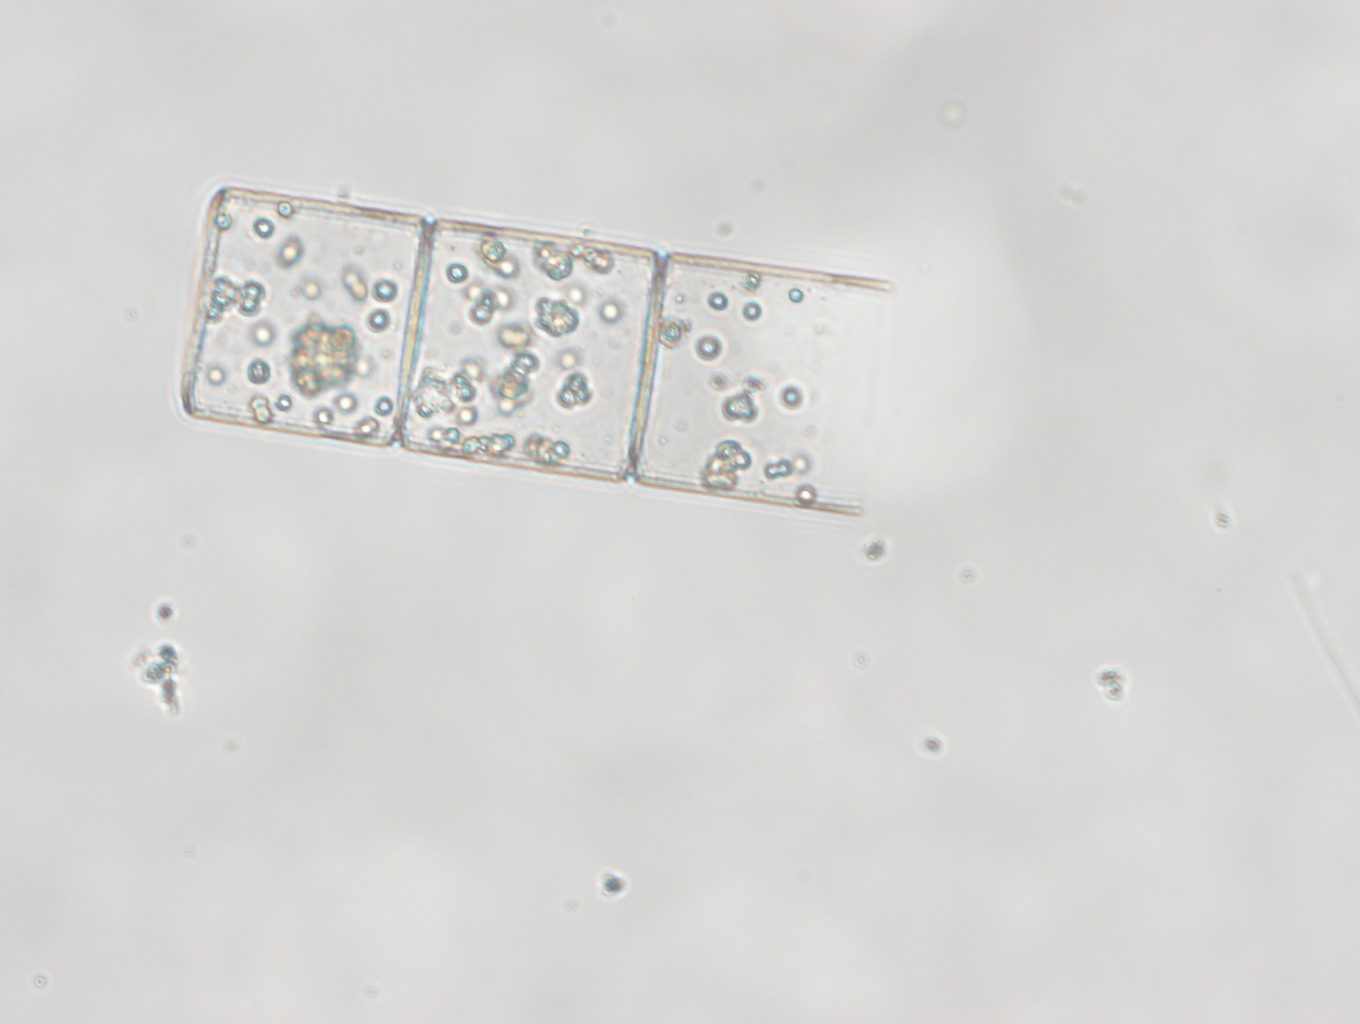guinardia flaccida: (174, 177, 897, 524)
